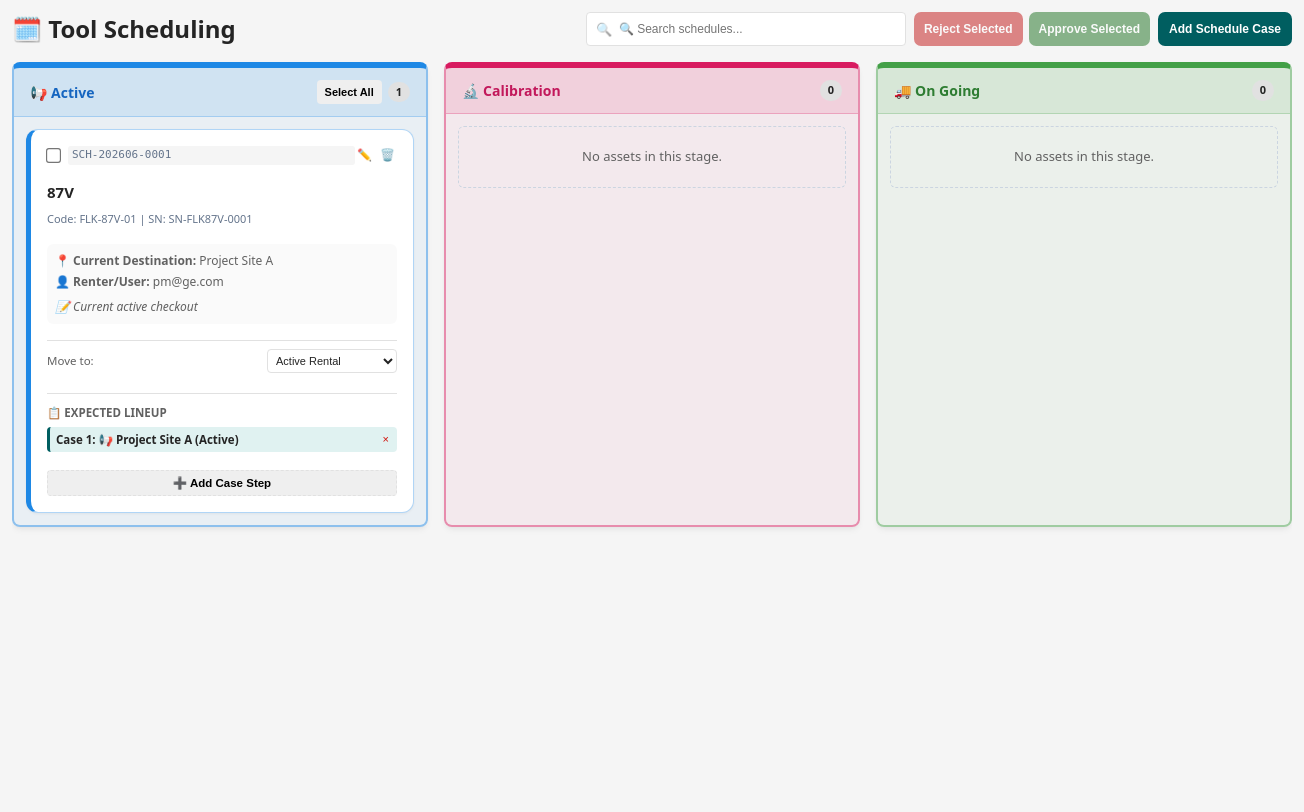
SchedulingTab Component › supports selecting cards and showing bulk actions panel
This screenshot has width=1304, height=812.
Check: the text "SCH-202606-0001" is shown, box [68,146,355,164]
Check: the text "Selected 1 tool cards" is not shown
Note: Find and click the checkbox on the card
Click the checkbox.
click(53, 155)  # box [46,148,61,163]
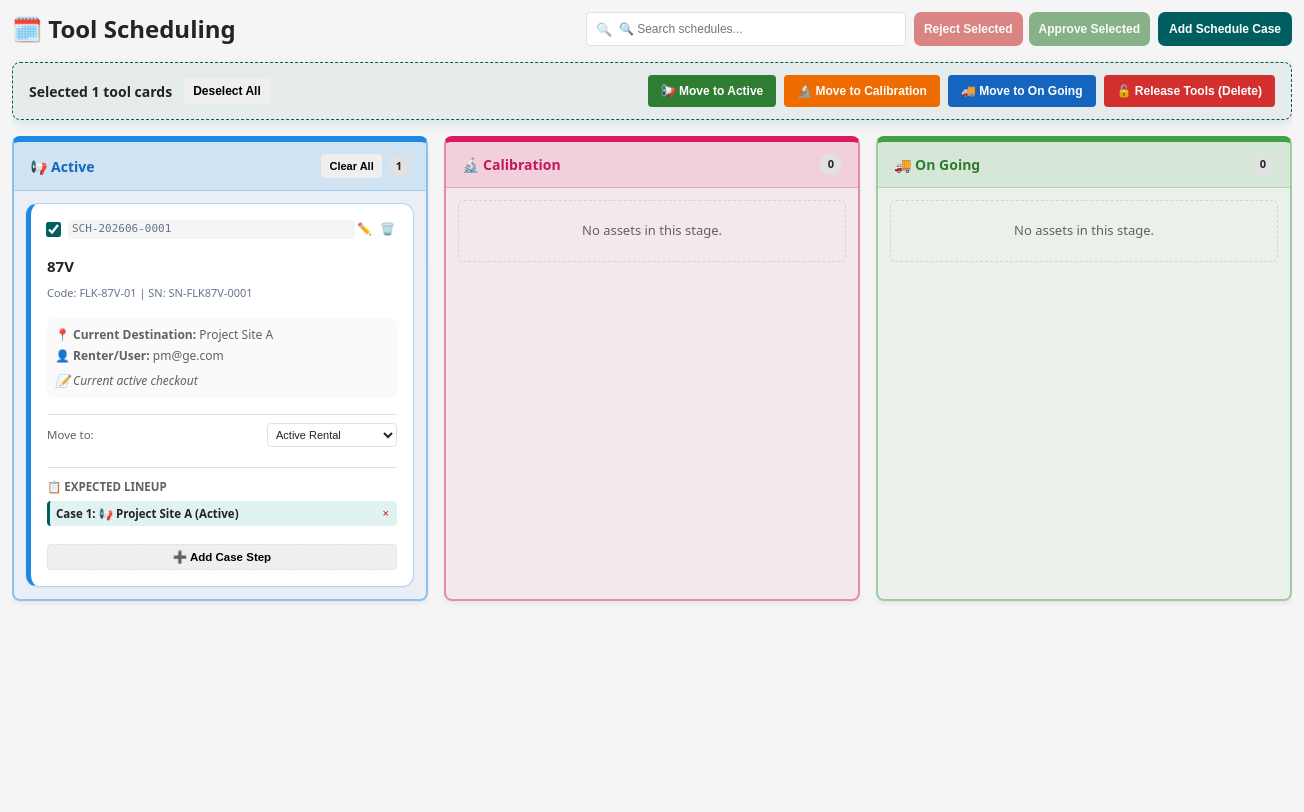
Check: the text "Selected 1 tool cards" is shown, box [29,80,172,102]
Note: Click "Deselect All" in bulk actions panel
Click the button "Deselect All".
click(227, 91)  # box [184,78,270,104]
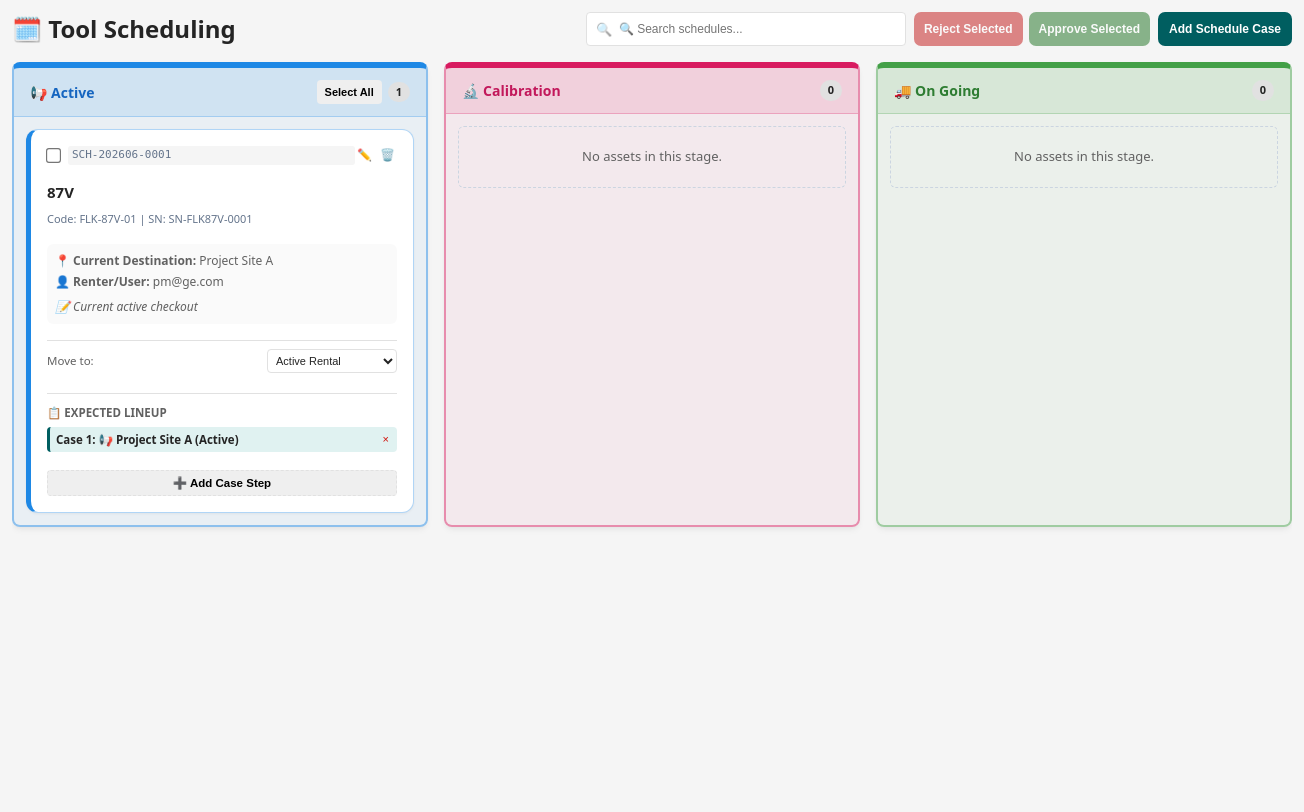
Check: the checkbox is not checked, box [46,148,61,163]
Check: the text "Selected 1 tool cards" is gone
